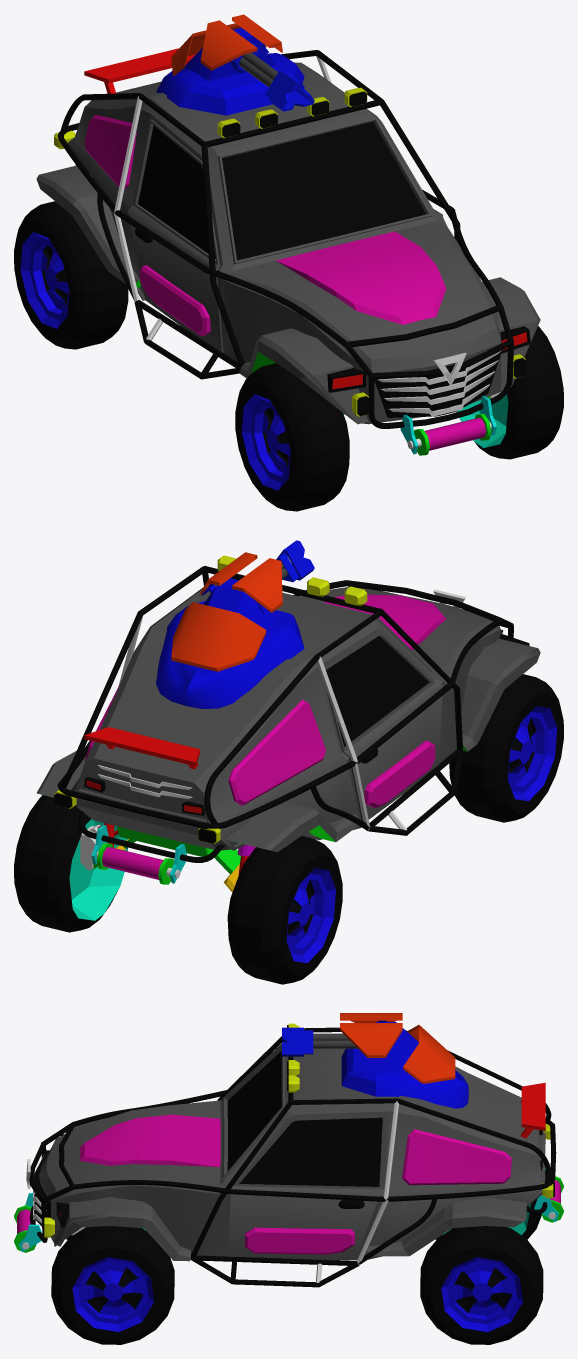
The model's file is dördüncü_prototip.FBX.
3 views of the same model, one above another, from view 1: azimuth 30°, elevation 25°; view 2: azimuth 150°, elevation 25°; view 3: azimuth 270°, elevation 25° (orthographic). The views are drawn at different scales.
Parts seen in each view (by area): view 1: Object036, fr, rr, fl; view 2: Object036, rr, fr, rl; view 3: Object036, rl, fl, rr.
Part boxes in pixels (x1,y1,x2,y2): Object036: (36, 14, 540, 455); fr: (235, 363, 349, 511); rr: (14, 201, 128, 349); fl: (457, 326, 563, 459); Object036: (37, 540, 540, 892); rr: (227, 836, 342, 984); fr: (449, 674, 563, 822); rl: (14, 795, 127, 932); Object036: (14, 1013, 563, 1287); rl: (420, 1226, 543, 1344); fl: (51, 1226, 174, 1344); rr: (435, 1198, 541, 1239).
Size of the model in its own units: 70.76 by 83.53 by 151.
